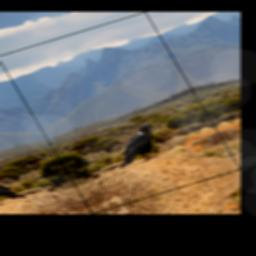Crow: (100, 122, 173, 171)
